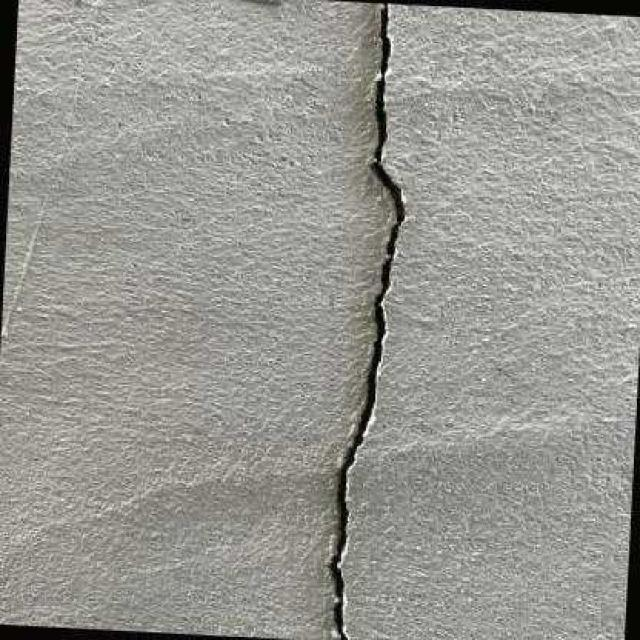D00: (327, 3, 404, 640)
